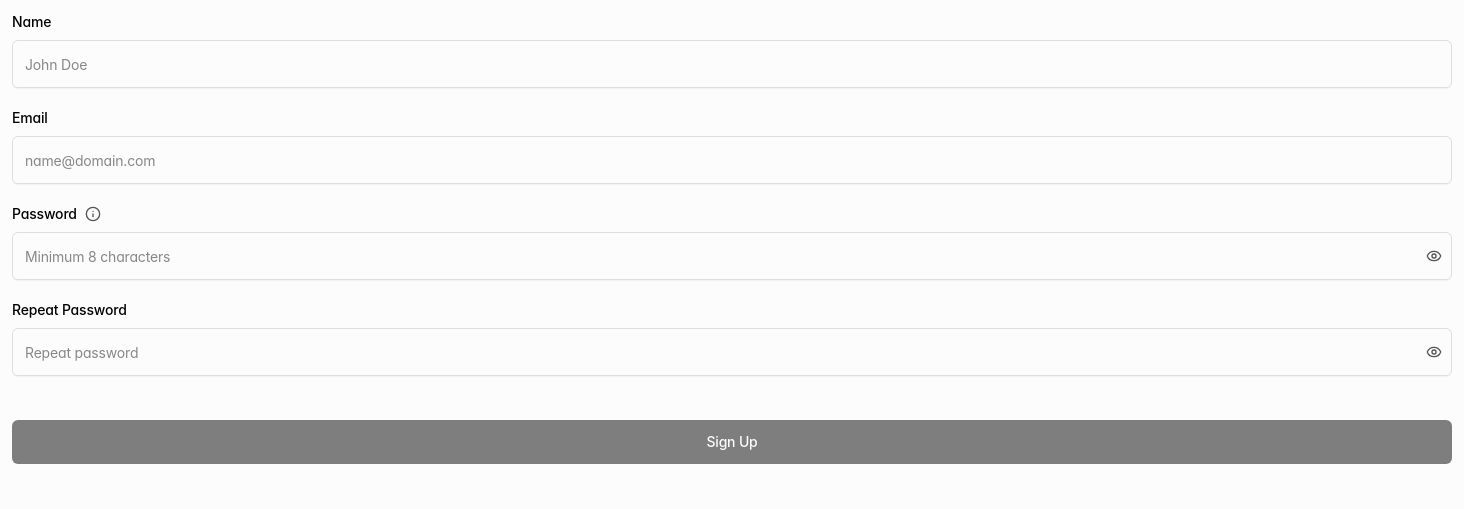
Scenario: RegisterForm › should show validation error for invalid email
Type "Test User" into the field labelled "Name". click: (732, 64)
box: [12, 40, 1452, 88]
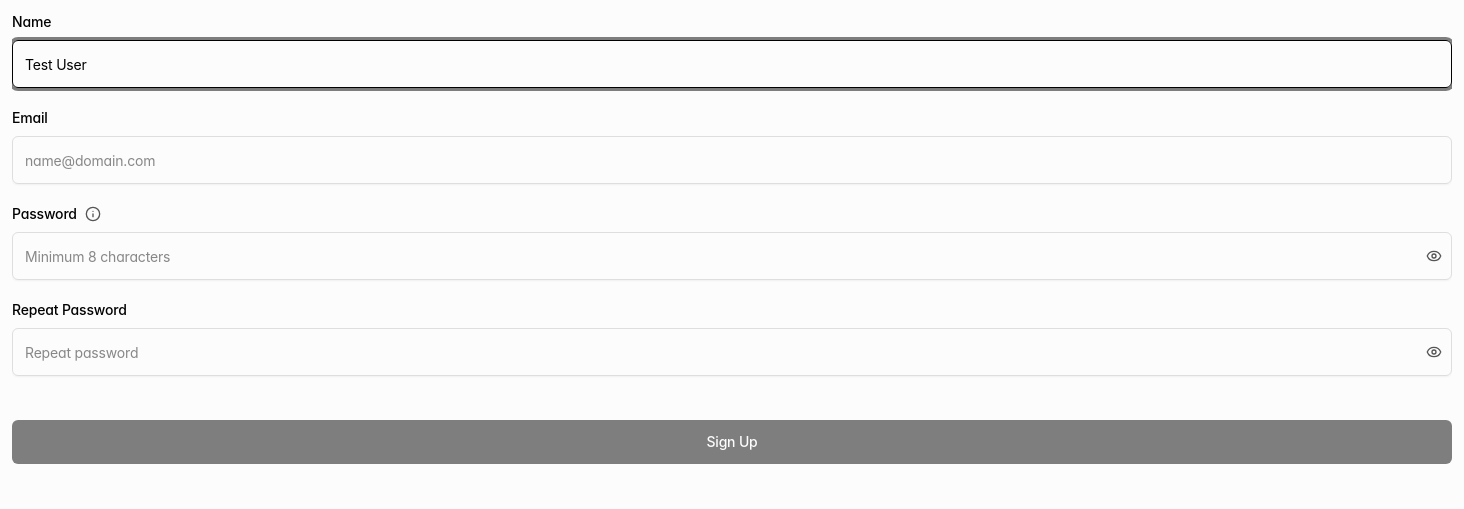
Type "invalid-email" into the field labelled "Email". click: (732, 160)
box: [12, 136, 1452, 184]
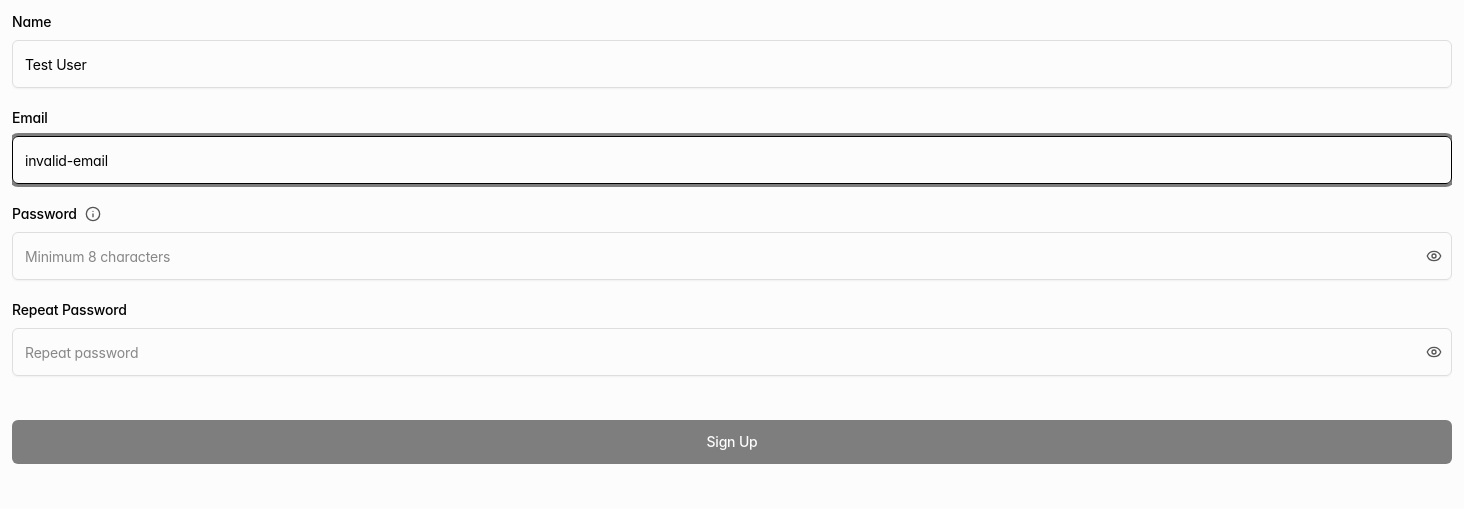
Press Tab
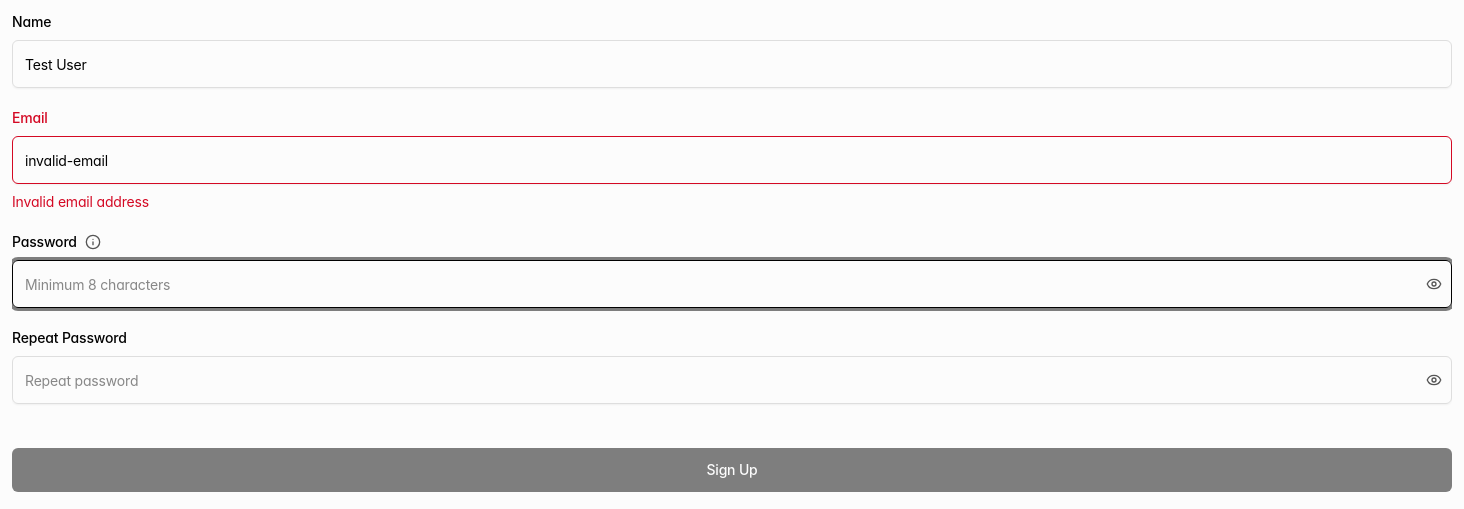
Check: the text "Invalid email address" is shown, box [12, 193, 149, 210]
